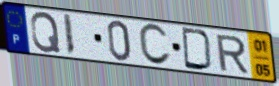0: (105, 19, 133, 63)
C: (137, 23, 173, 68)
D: (180, 26, 215, 73)
I: (62, 12, 77, 57)
Q: (29, 10, 62, 54)
R: (214, 33, 250, 74)
